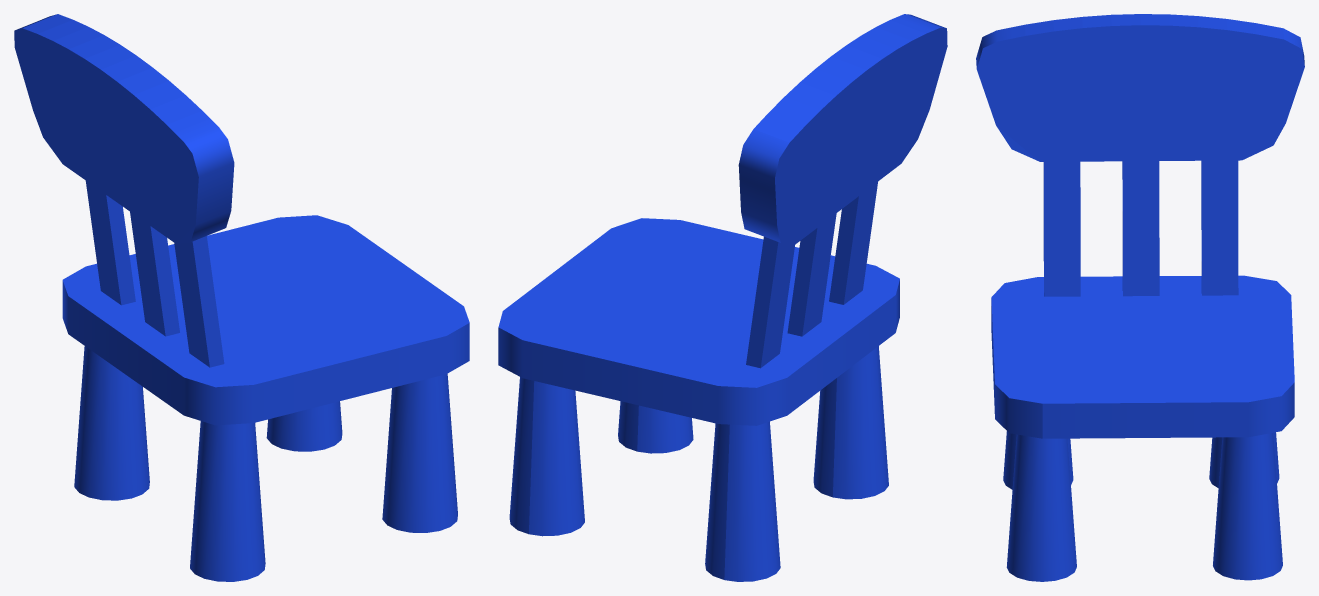
Rendered from Chair_Toddler_1_Blue_Mesh.fbx.
The picture shows the model from 3 angles, left to right: view 1: azimuth 30°, elevation 25°; view 2: azimuth 150°, elevation 25°; view 3: azimuth 270°, elevation 25°; orthographic projection. The views are drawn at different scales.
Visible parts, largest first — view 1: Chair1_Blue; view 2: Chair1_Blue; view 3: Chair1_Blue.
Boxes of the visible parts, x1=… form: Chair1_Blue: x1=14, y1=14, x2=469, y2=581; Chair1_Blue: x1=498, y1=14, x2=947, y2=581; Chair1_Blue: x1=976, y1=14, x2=1304, y2=581.
Bounding box in the file's own units: 101 × 148 × 101.
